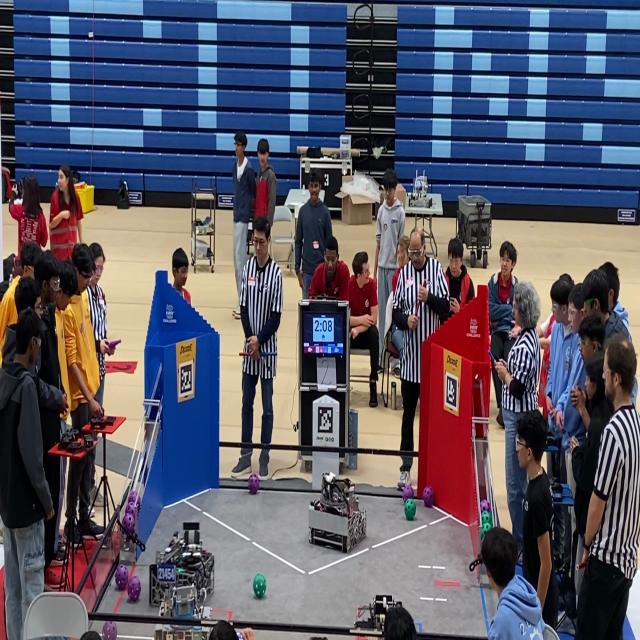artifact_green: (253, 574, 266, 598), (404, 499, 416, 520), (481, 523, 492, 537), (481, 512, 492, 525), (481, 499, 490, 511)
artifact_purple: (127, 576, 141, 602), (115, 565, 128, 590), (122, 514, 135, 535), (128, 491, 140, 511), (103, 622, 117, 639), (423, 486, 434, 507), (248, 473, 259, 494), (403, 485, 414, 501), (126, 503, 136, 516), (481, 499, 490, 512), (128, 491, 137, 503), (136, 495, 141, 511), (237, 631, 243, 639)
